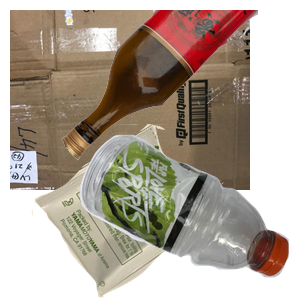cardboard: (10, 10, 250, 190)
glass: (60, 10, 300, 163)
plastic: (77, 132, 300, 300)
trash: (29, 124, 238, 300)
